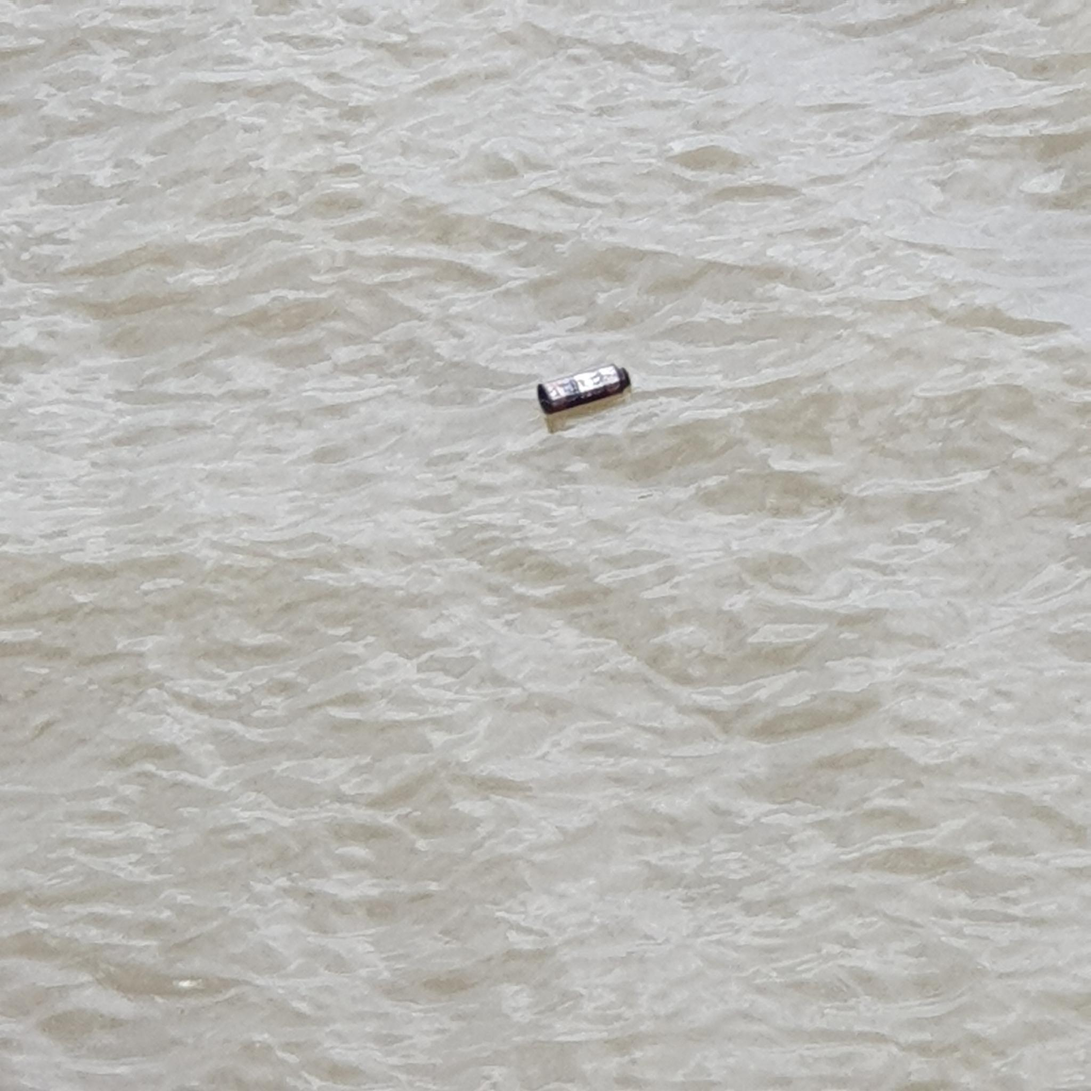sampah_terapung: (538, 362, 632, 415)
